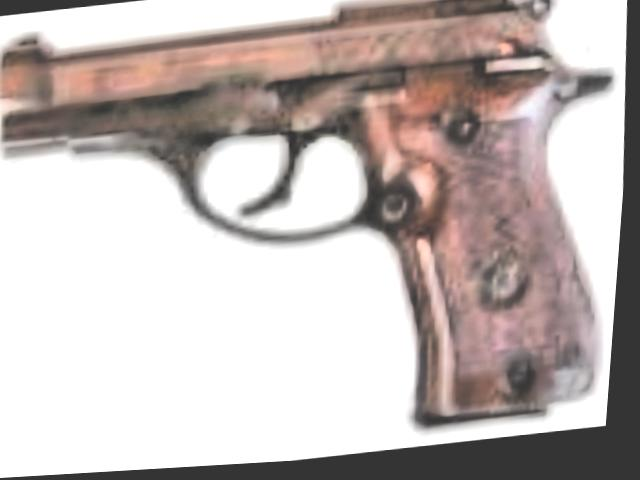pistol: (0, 0, 634, 472)
